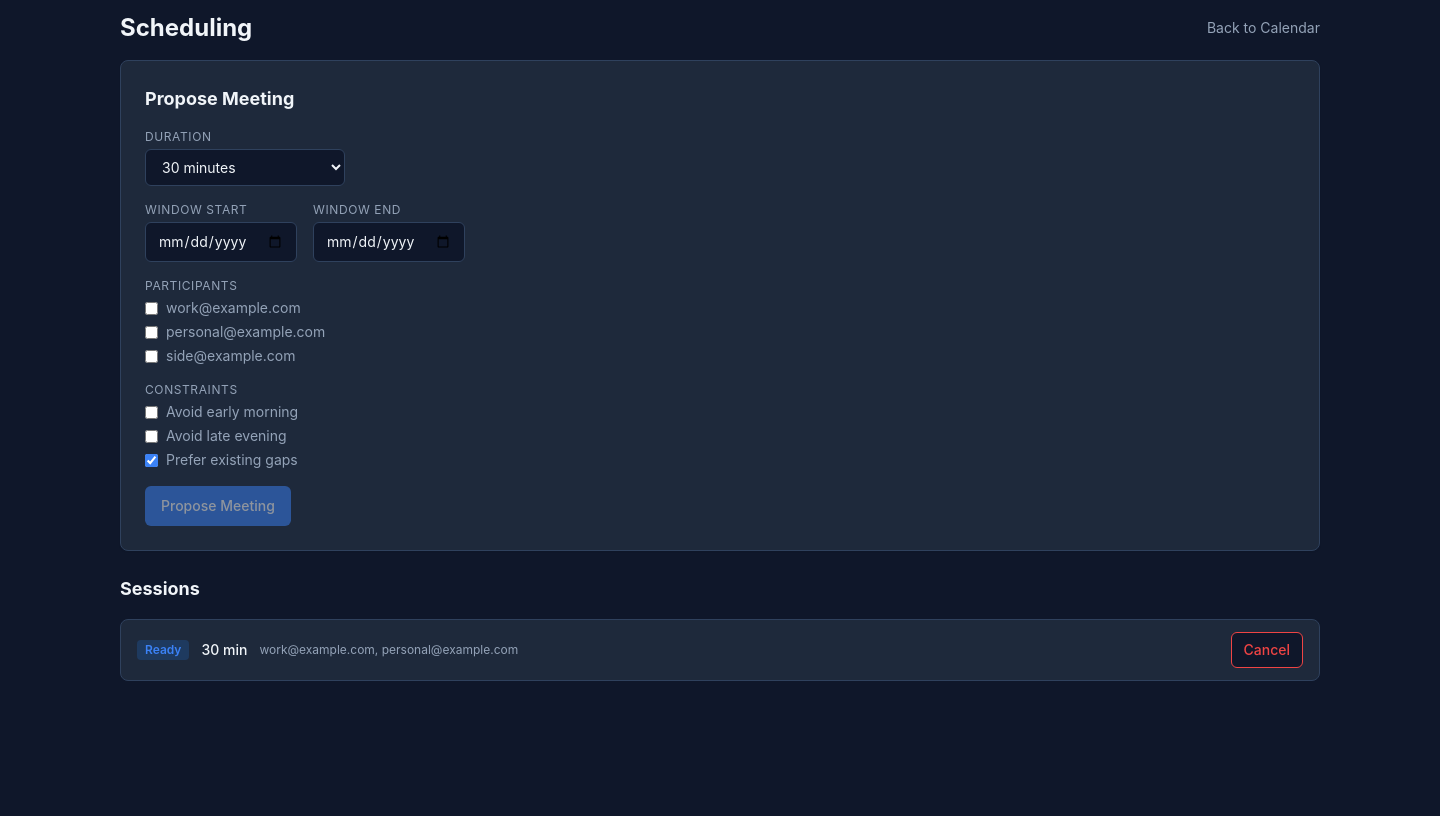
Scenario: Scheduling Page › integration: commit candidate creates event › shows success message after committing
Click the element with test id "session-row-sess_002".
click(720, 650)  # box [120,619,1320,681]
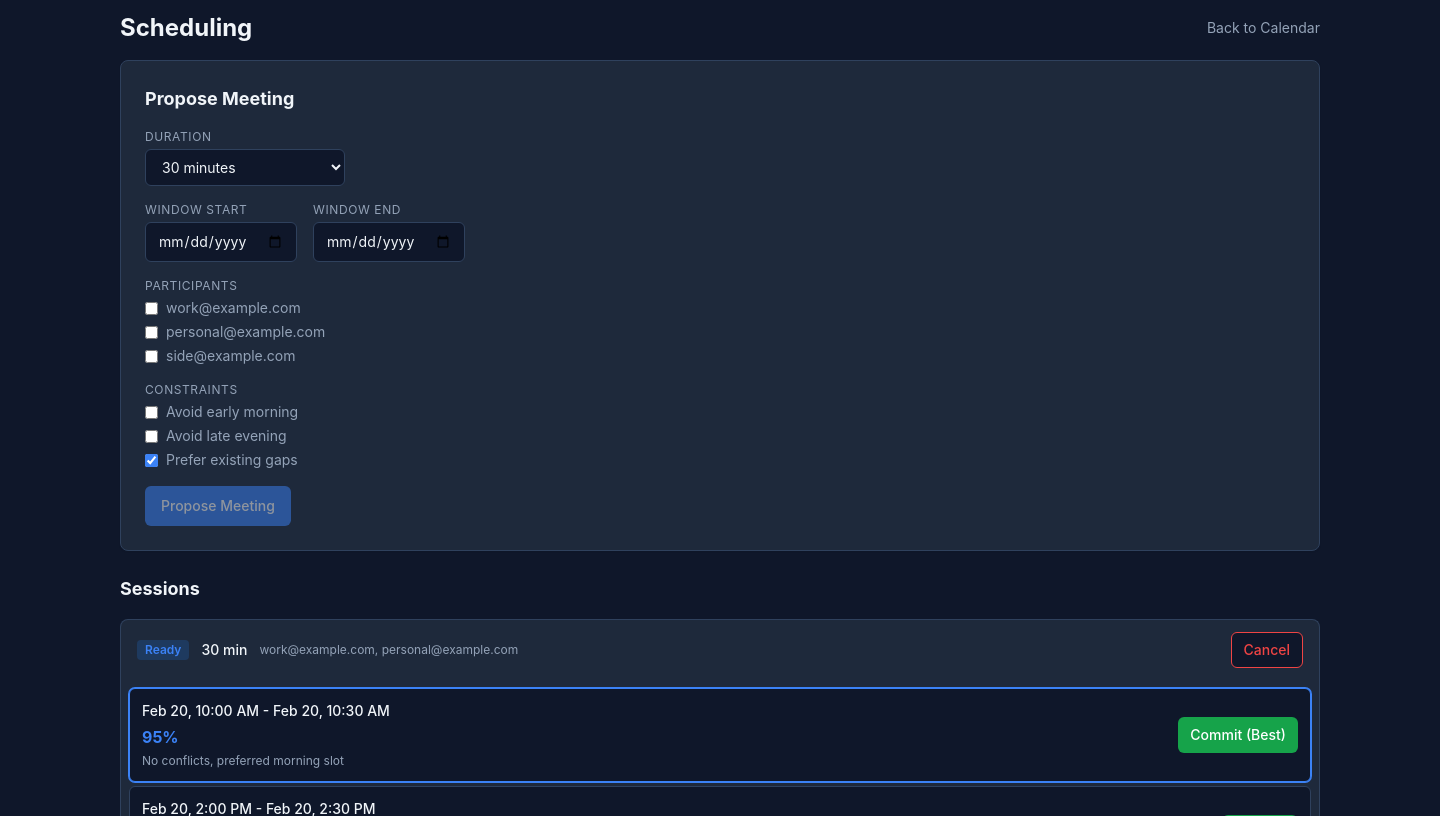
Click the button with test id "commit-btn-cand_1".
click(1238, 735)  # box [1178,717,1298,753]
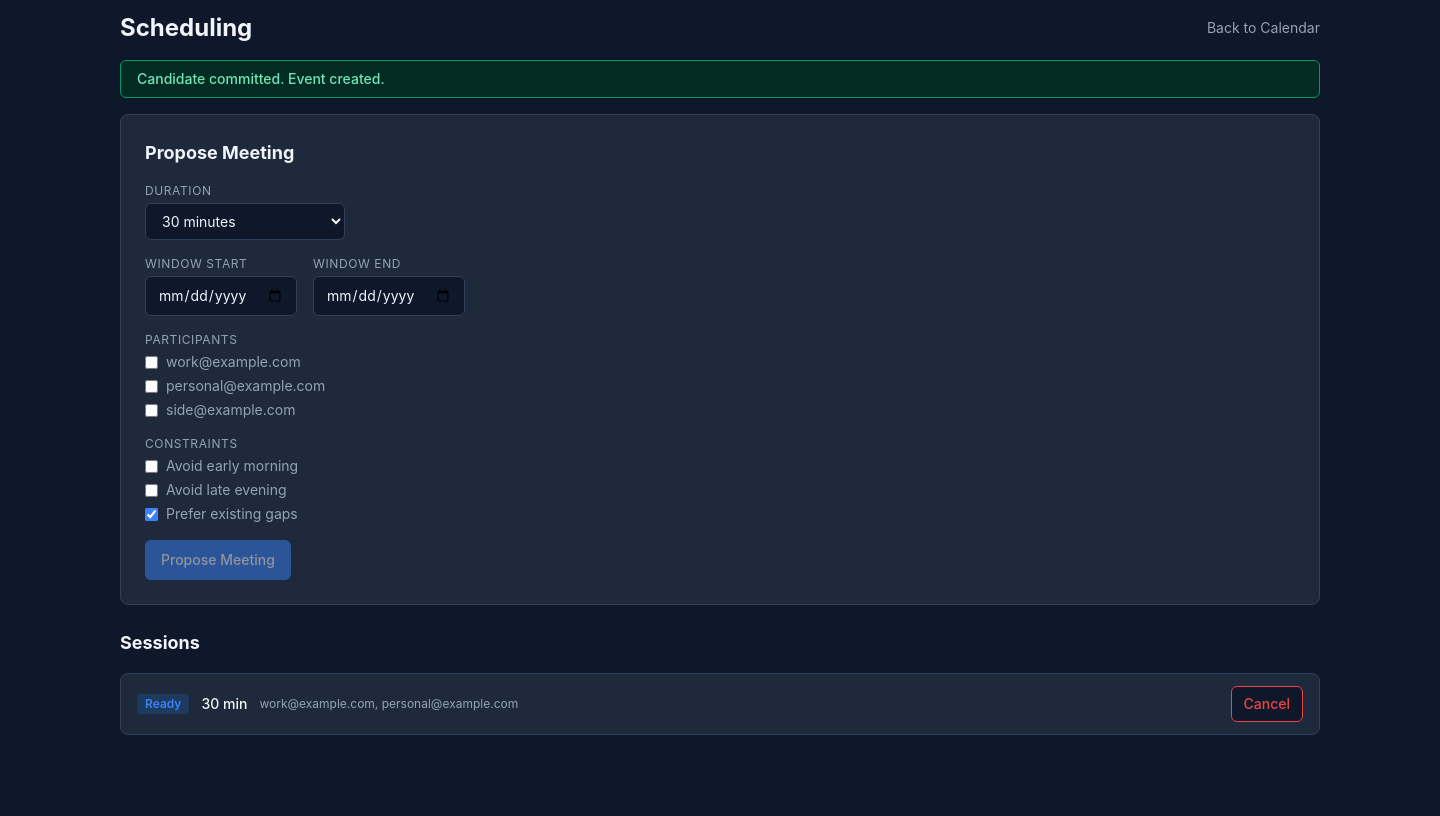
Expected: the text with test id "scheduling-status-msg" shows "committed", [137,70,385,87]
